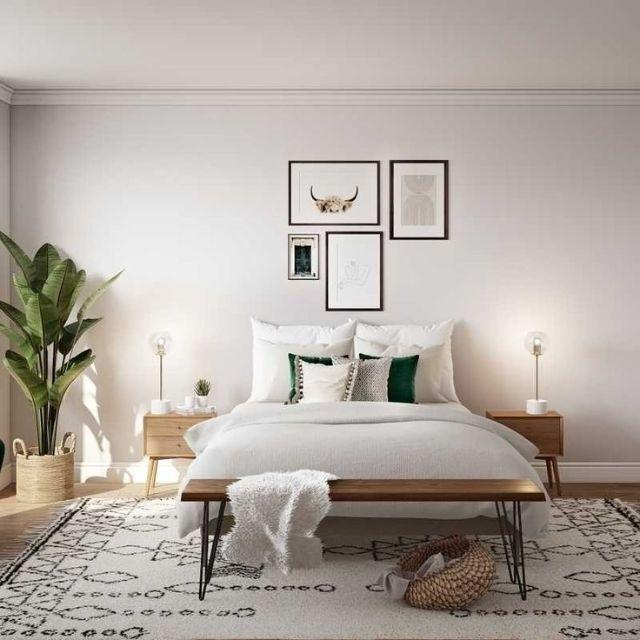bed: (198, 407, 554, 600)
lamp: (141, 332, 175, 414), (521, 331, 549, 417)
pillow: (251, 321, 356, 410), (350, 317, 461, 397), (353, 350, 444, 406), (287, 349, 353, 406)
